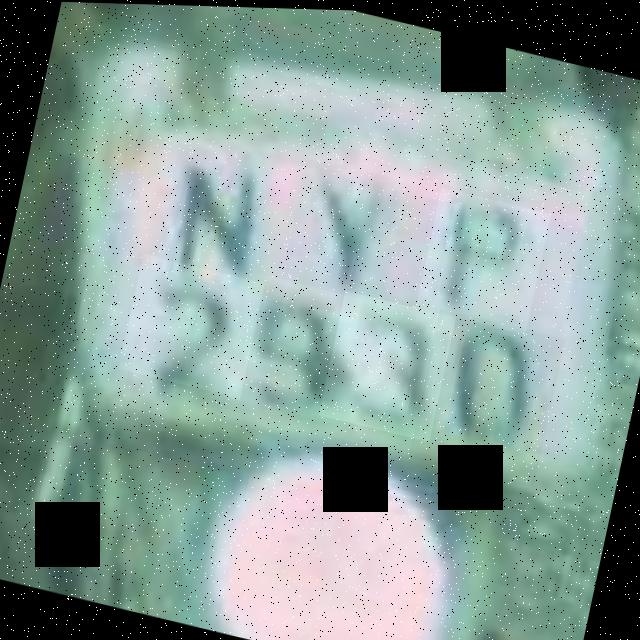0: (408, 305, 565, 485)
2: (118, 252, 264, 398)
3: (318, 287, 456, 440)
7: (106, 396, 278, 627)
9: (224, 270, 362, 422)
N: (157, 121, 297, 291)
P: (416, 184, 550, 332)
Y: (280, 155, 436, 309)
